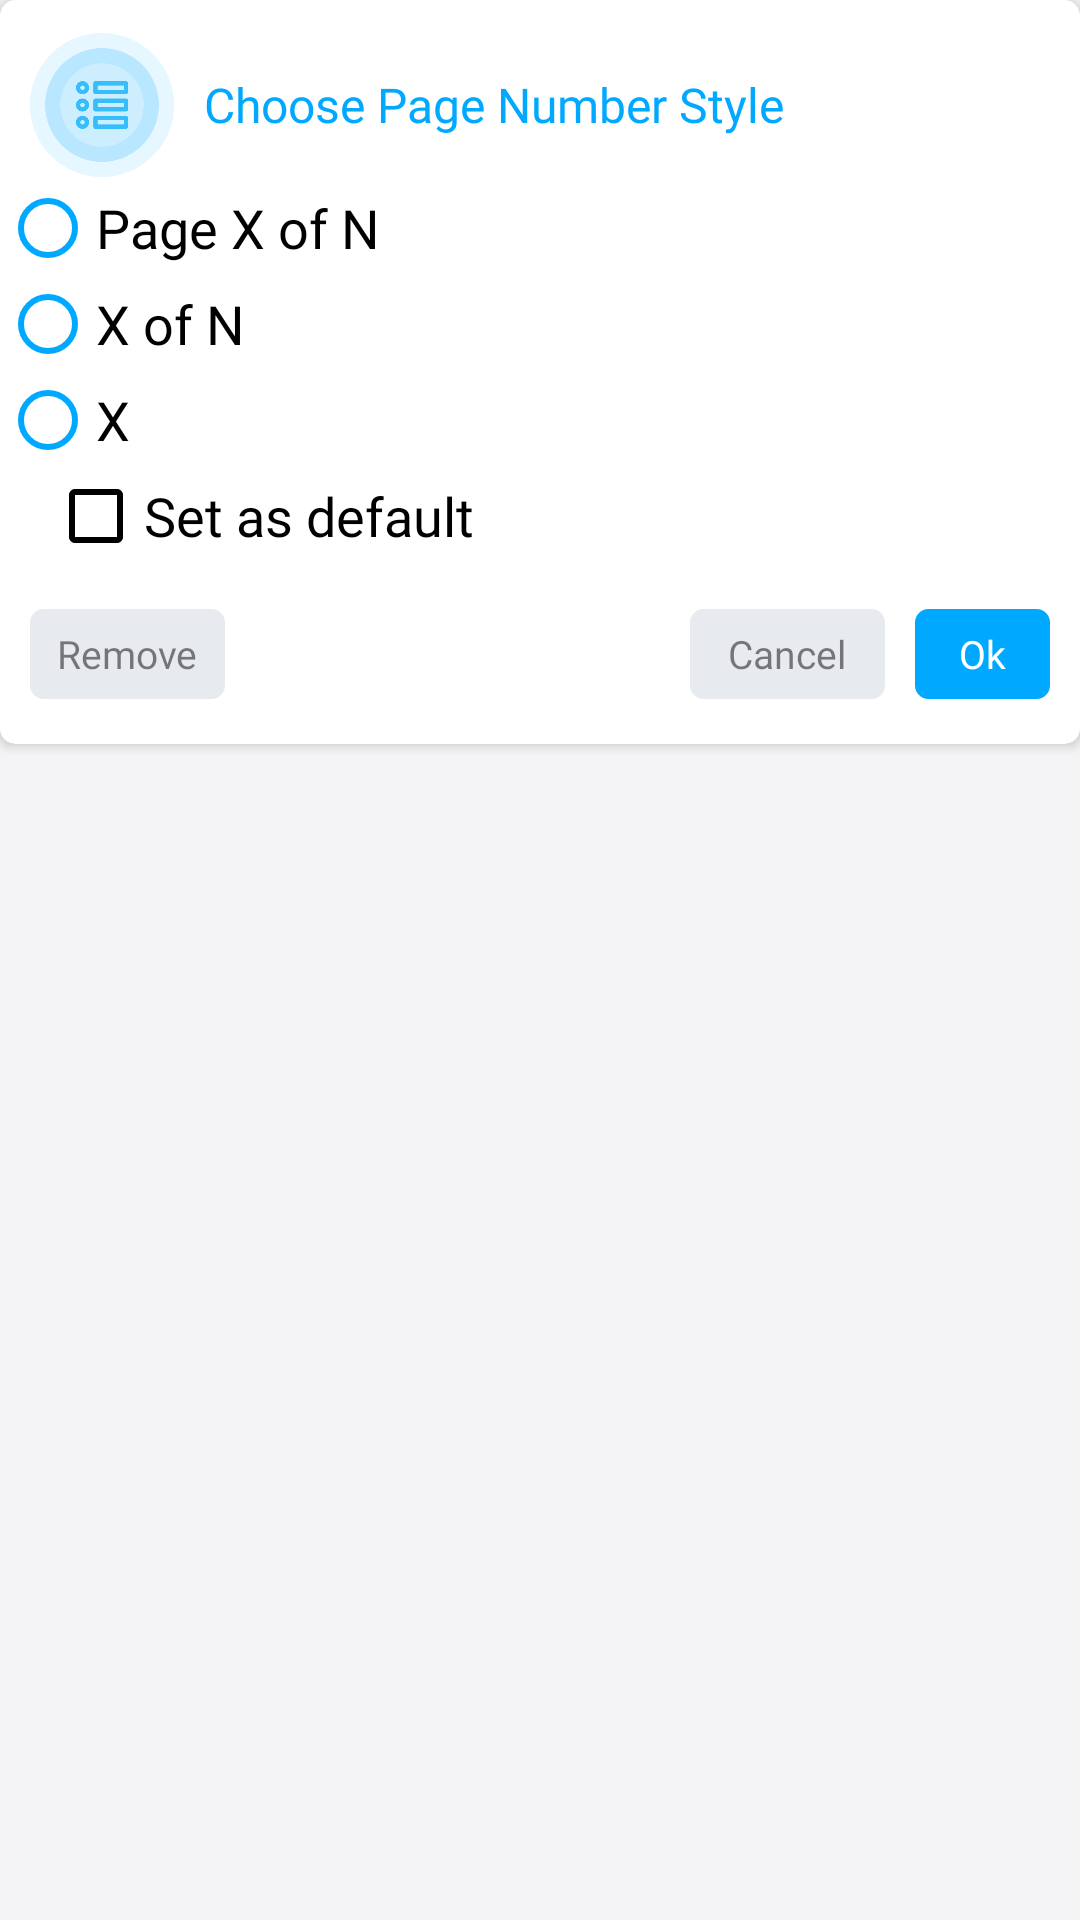

Icons on this 1080*1920 Android screen, each with its box as [left=x1, top=y1, right=x2, bottom=y2]:
chosse page number: [left=30, top=33, right=174, bottom=177]
